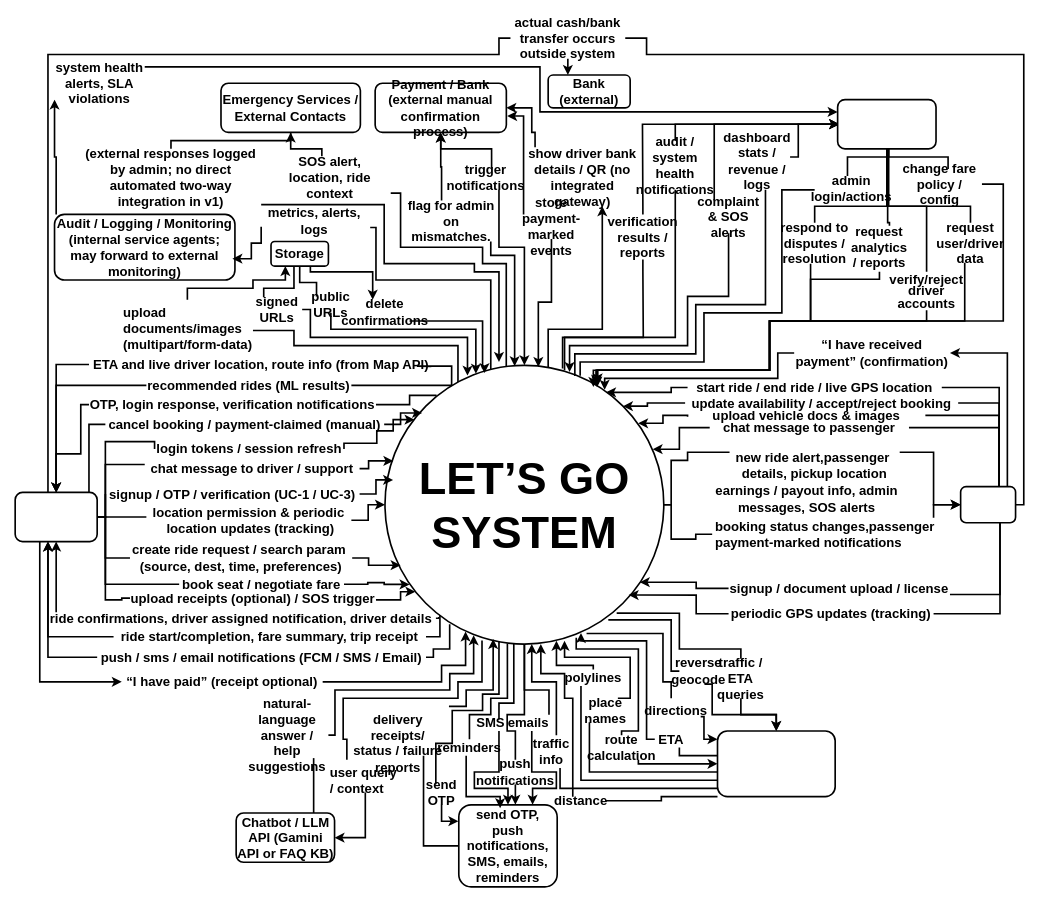
This 1039x901 diagram has some shape labels left out. The shapes that lost their labels are listed below. From the top down, each one's box as (x1, y1, x2, y2) in pixels, then its label:
(836, 98, 936, 149): Admin
(14, 491, 98, 542): Passenger
(959, 485, 1016, 523): Driver
(716, 730, 836, 797): Map / Routing API (Google Maps or OSM provider)
